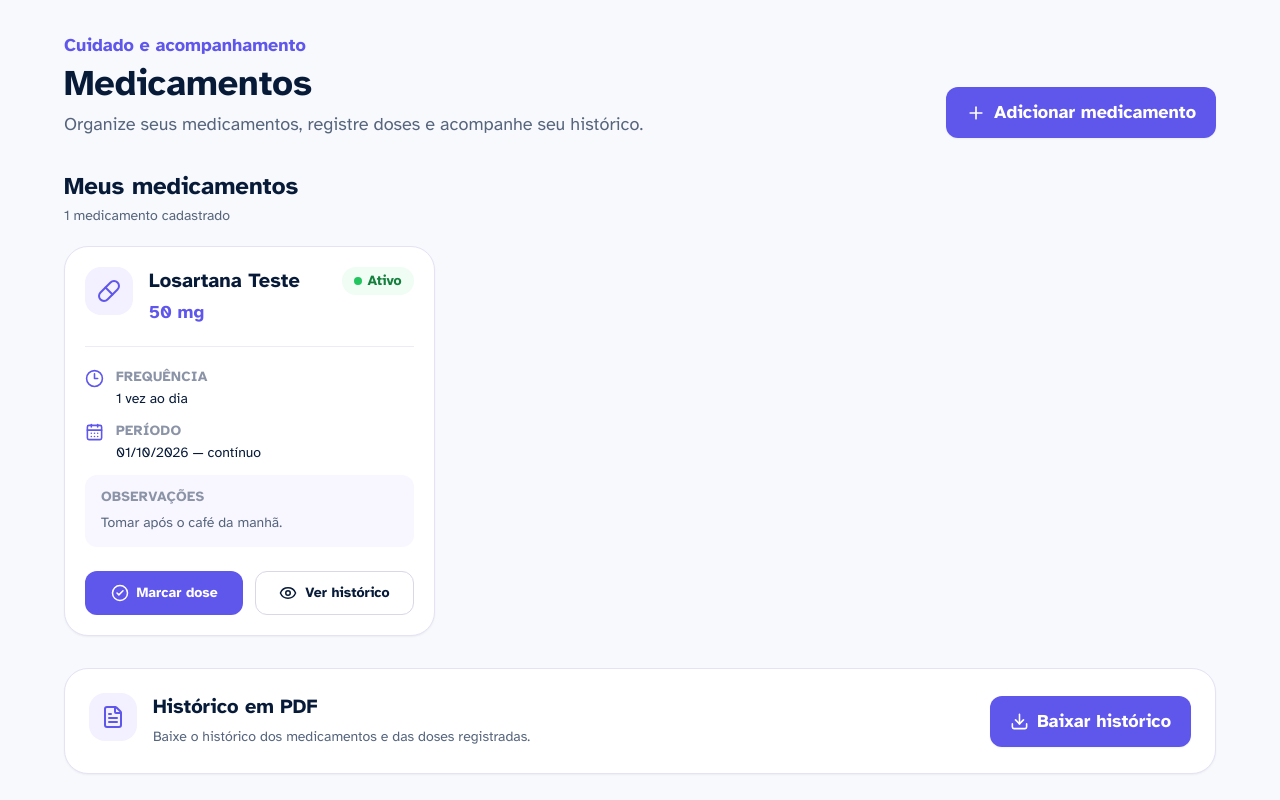
Test: Remedios: acessibilidade do modal de dose › erro ao registrar dose continua acessível
What coordinates should you click on to do the following:
click the button "Marcar dose"
I would click on:
 (164, 593)
Its box is [85,571,243,615].
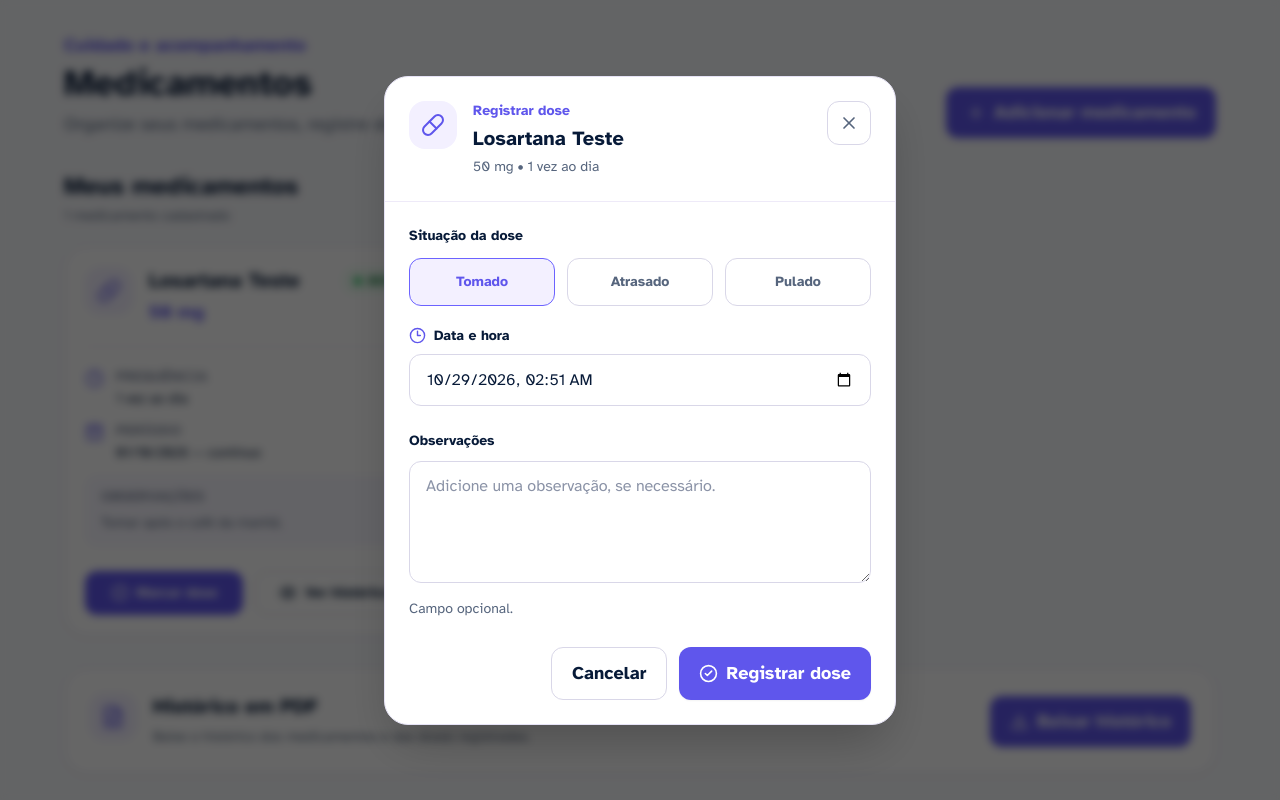
What coordinates should you click on to do the following:
click the button "Registrar dose"
I would click on:
 (775, 673)
Its box is [680,646,871,700].
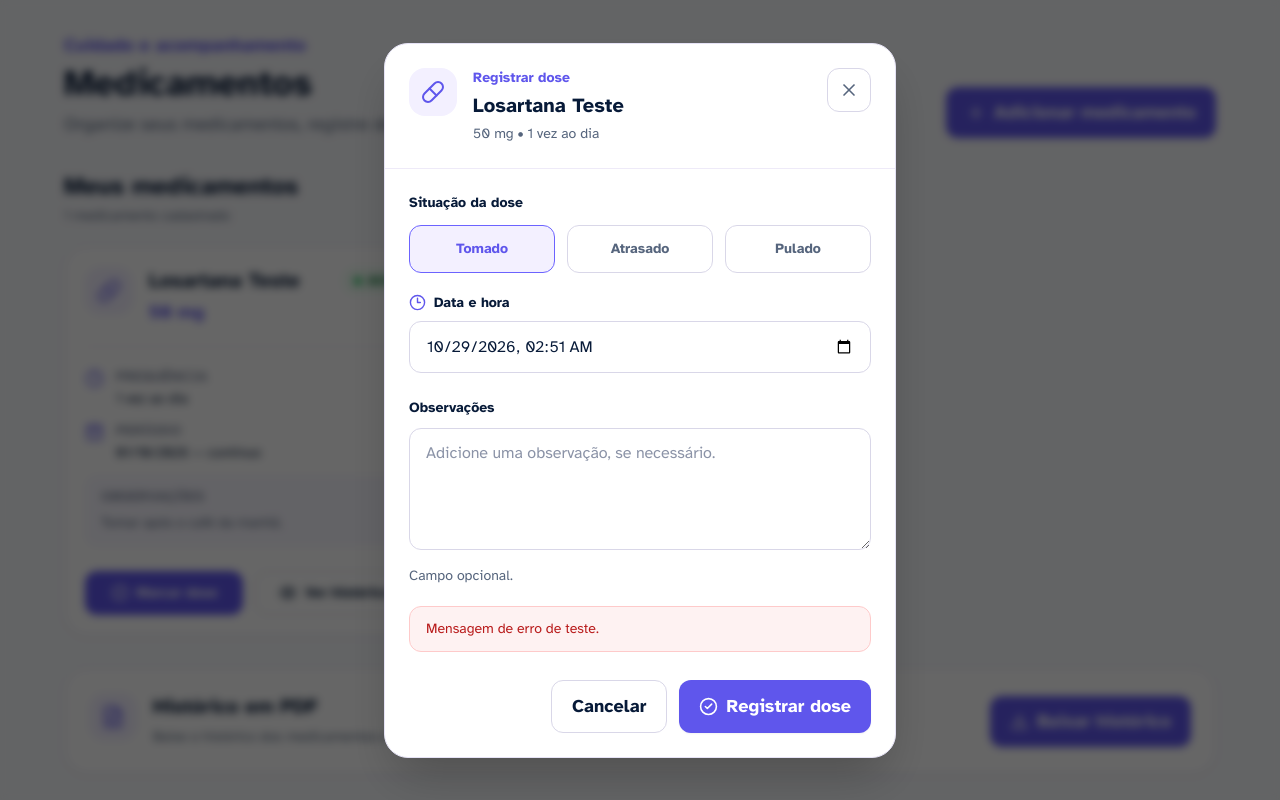
Expected: the message reads "Mensagem de erro de teste.", [426,620,599,636]
